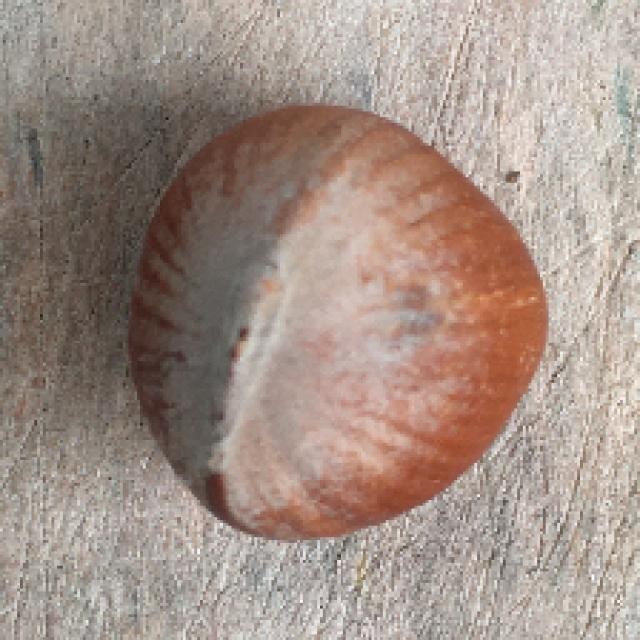qualityHazelnut: (125, 103, 555, 540)
